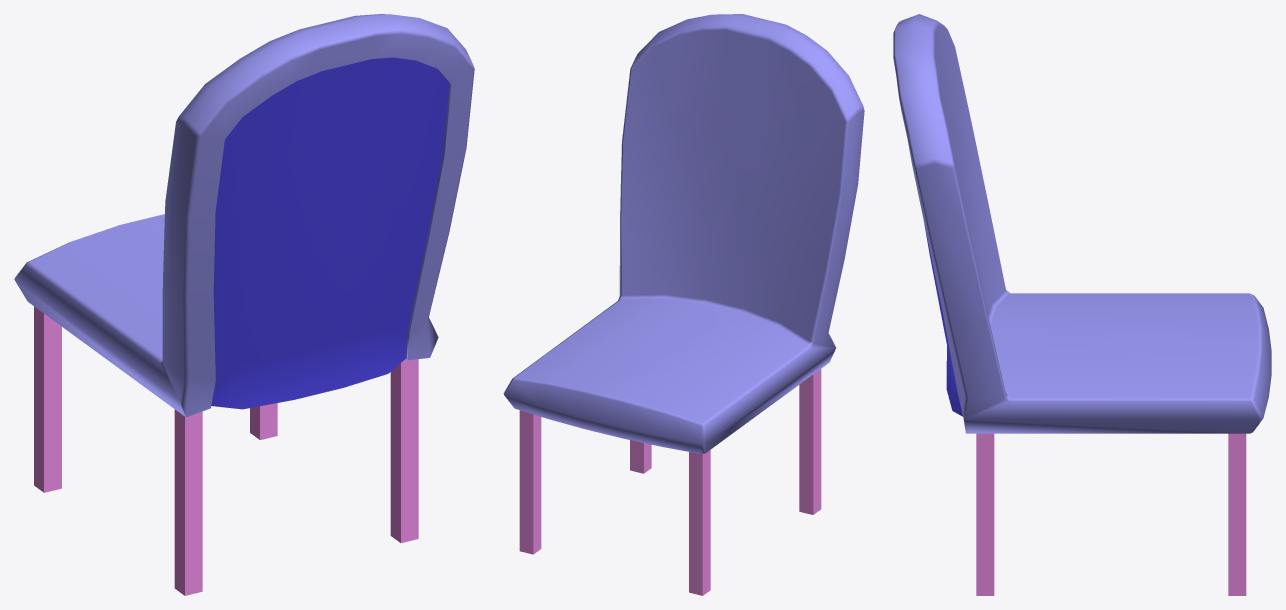
File: Chair_Dining_01.glb
3 views of the same model, side by side, from view 1: azimuth 30°, elevation 25°; view 2: azimuth 150°, elevation 25°; view 3: azimuth 270°, elevation 25° (orthographic). The views are drawn at different scales.
Visible parts, largest first — view 1: Chair_Desk; view 2: Chair_Desk; view 3: Chair_Desk.
Part boxes in pixels (left/top/right/bottom): Chair_Desk: left=14, top=14, right=474, bottom=595; Chair_Desk: left=503, top=14, right=864, bottom=595; Chair_Desk: left=893, top=14, right=1271, bottom=595.
Bounding box in the file's own units: 0.8234 × 1.56 × 1.05.
Materials: 1 (1 with a texture image).
